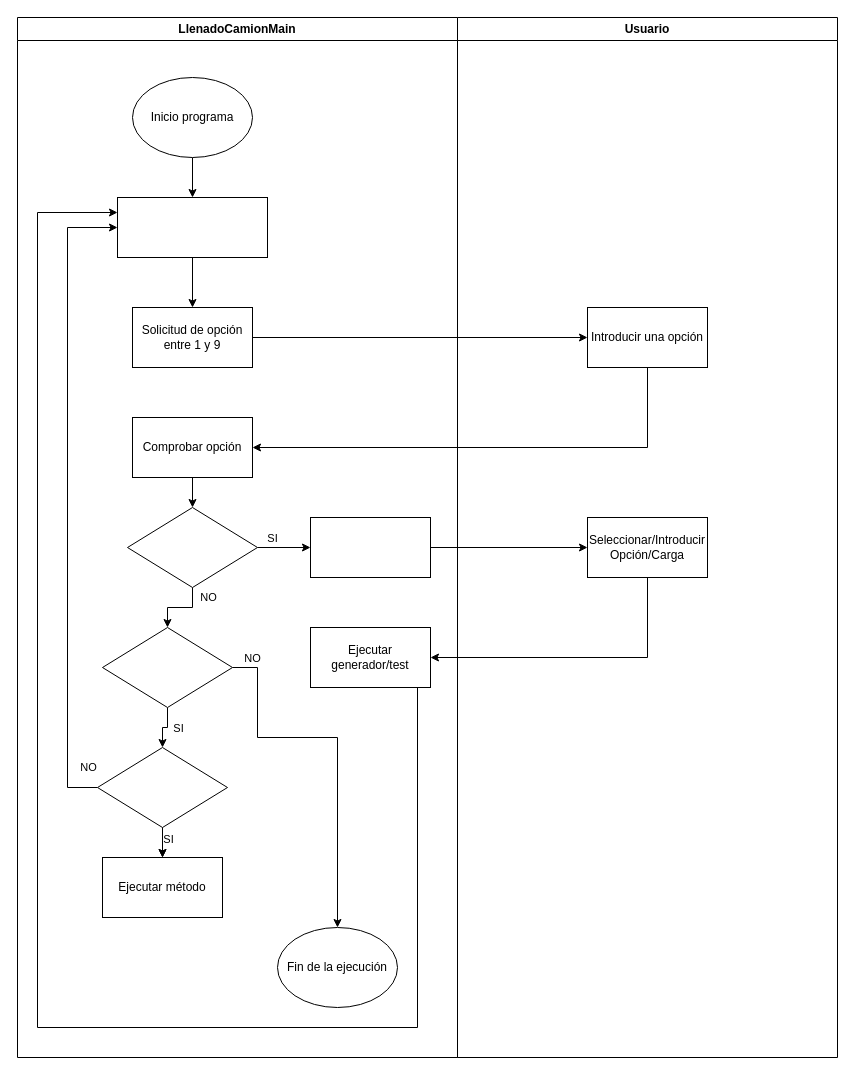
Image size: 855x1075. Some labels were removed from this diagram. The centre of each missing label's shape, as x and y in pixels:
"Mostrar menú con las 9 opciones disponibles." belongs at point (192, 227).
"Solicitar opción" belongs at point (370, 547).
"¿Es generador de carga/test de rendimiento?" belongs at point (192, 547).
"¿Es un método?" belongs at point (167, 667).
"¿Existe carga?" belongs at point (162, 787).
